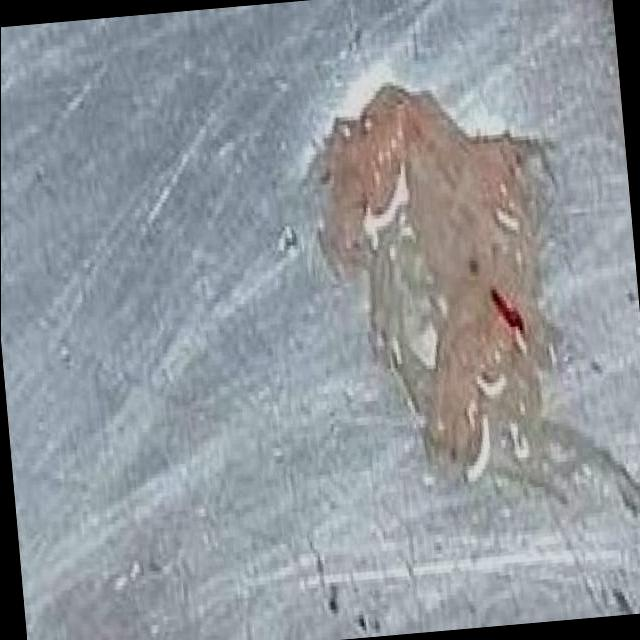General: (4, 2, 639, 637), (311, 81, 564, 486)
Sharps: (489, 286, 530, 357)
